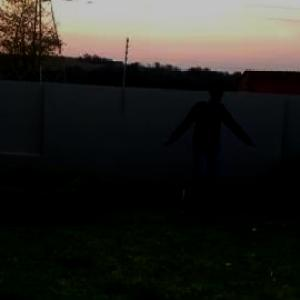land: (165, 95, 251, 216)
